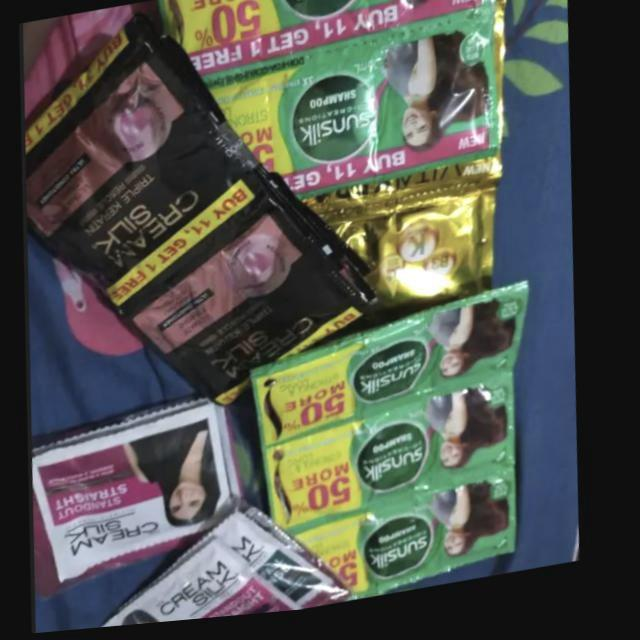plastic_sachet: (27, 20, 283, 315), (119, 177, 386, 411), (203, 13, 503, 198), (255, 291, 534, 455), (271, 385, 523, 539), (39, 402, 243, 583), (306, 166, 505, 319), (106, 511, 359, 630), (302, 482, 526, 607), (158, 0, 496, 78)
